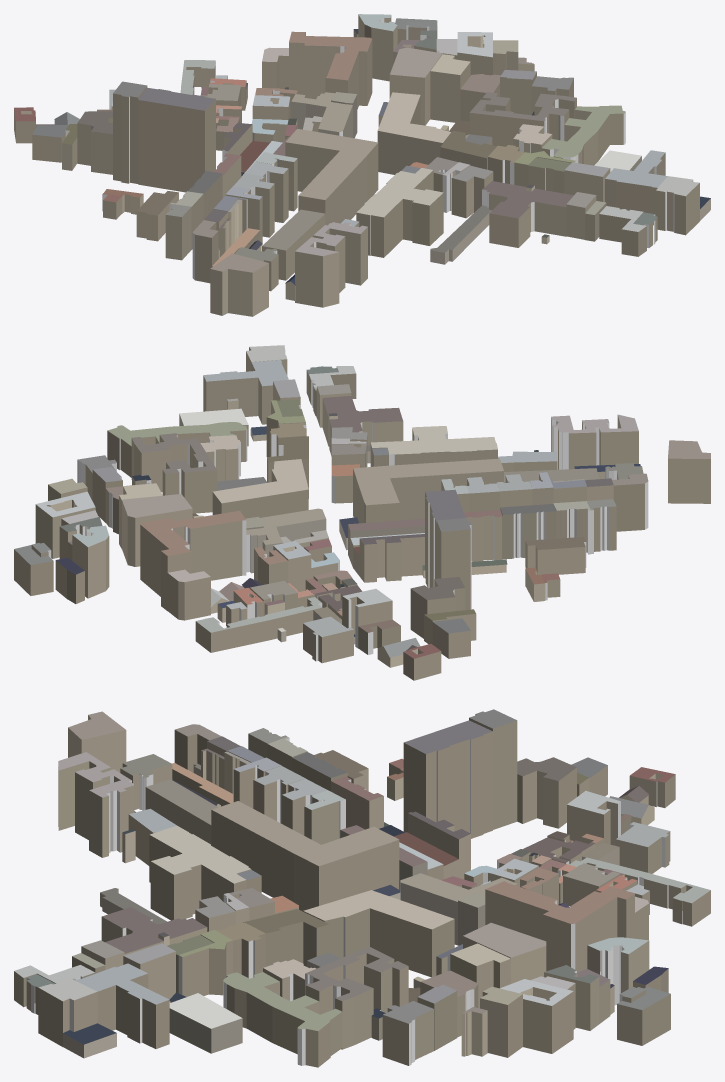
3 renders of one model, top to bottom at view 1: azimuth 30°, elevation 25°; view 2: azimuth 150°, elevation 25°; view 3: azimuth 270°, elevation 25°, orthographic. The views are drawn at different scales.
Visible parts, largest first — view 1: tuile; view 2: tuile; view 3: tuile.
Part boxes in pixels (x1,y1,x2,y2): tuile: (14, 14, 710, 316); tuile: (14, 345, 710, 680); tuile: (14, 709, 710, 1067).
Bounding box in the file's own units: 277 × 51.72 × 284.
